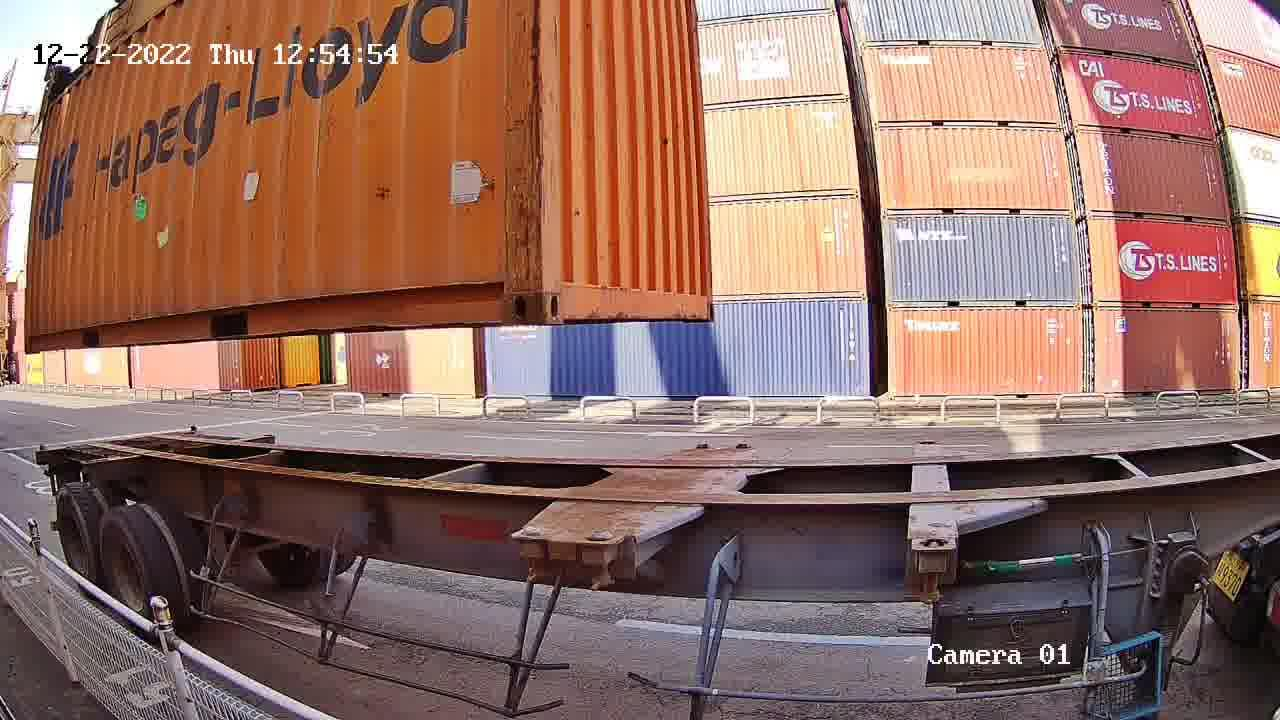Chassis: (514, 442, 714, 540), (581, 440, 756, 545)
Cone: (583, 524, 623, 590), (516, 521, 553, 582)
Hole_L: (542, 243, 597, 320)
Hole_R: (470, 248, 543, 322), (689, 280, 716, 320)
Tire: (98, 513, 153, 614), (53, 491, 95, 572)
